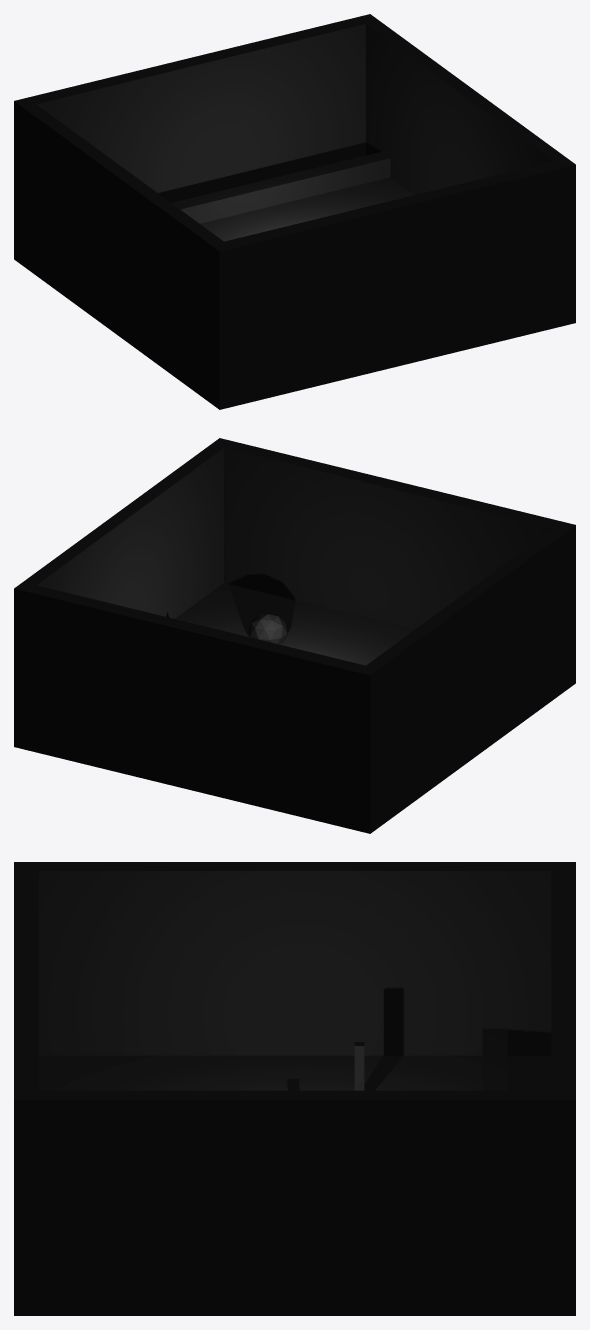
The model's file is bongo.obj.
3 renders of one model, top to bottom at view 1: azimuth 30°, elevation 25°; view 2: azimuth 150°, elevation 25°; view 3: azimuth 270°, elevation 25°, orthographic. The views are drawn at different scales.
Parts seen in each view (by area): view 1: Cube; view 2: Cube; view 3: Cube.
Part boxes in pixels (<box>): Cube: <box>14,14,575,409</box>; Cube: <box>14,438,575,833</box>; Cube: <box>14,862,575,1315</box>.
Bounding box in the file's own units: 74.88 × 31.82 × 74.88.
Materials: 1 (1 with a texture image).
